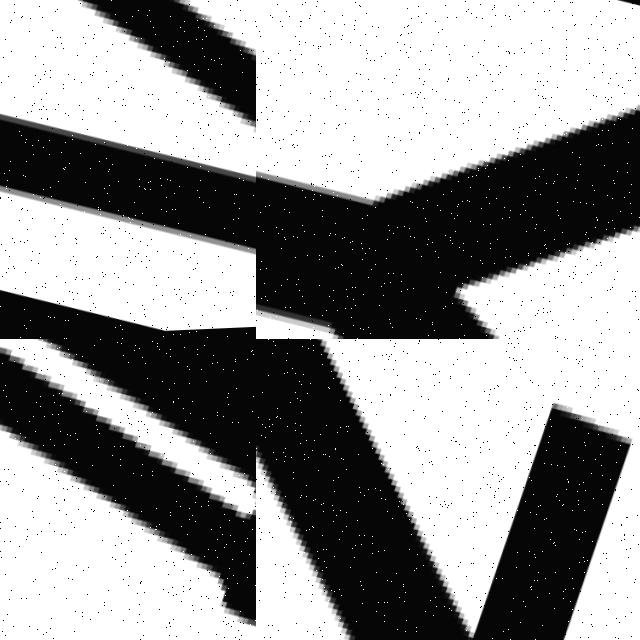M: (0, 0, 256, 318)
U: (0, 339, 256, 640)
Y: (256, 0, 640, 339)
Z: (256, 339, 640, 640)
